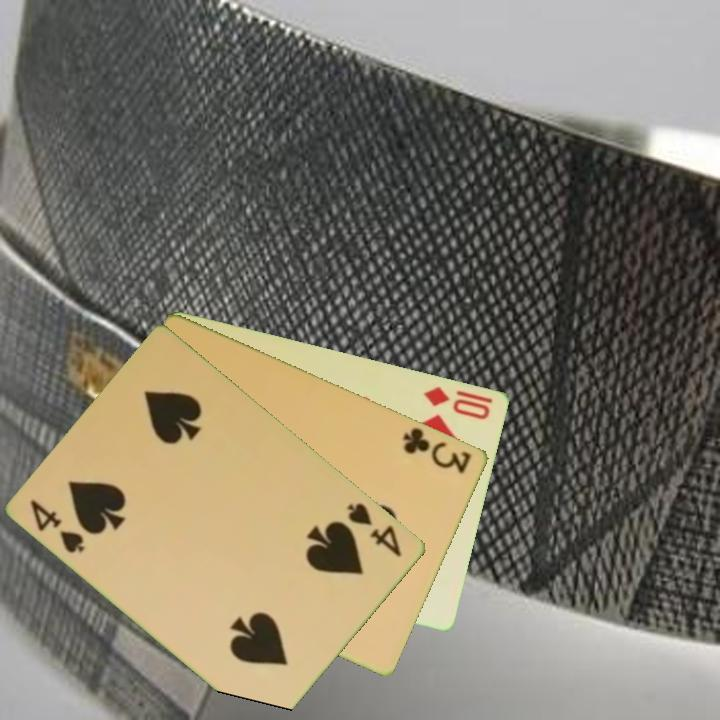10d: (421, 382, 494, 423)
3c: (399, 423, 475, 476)
4s: (344, 499, 405, 560), (27, 496, 88, 556)
